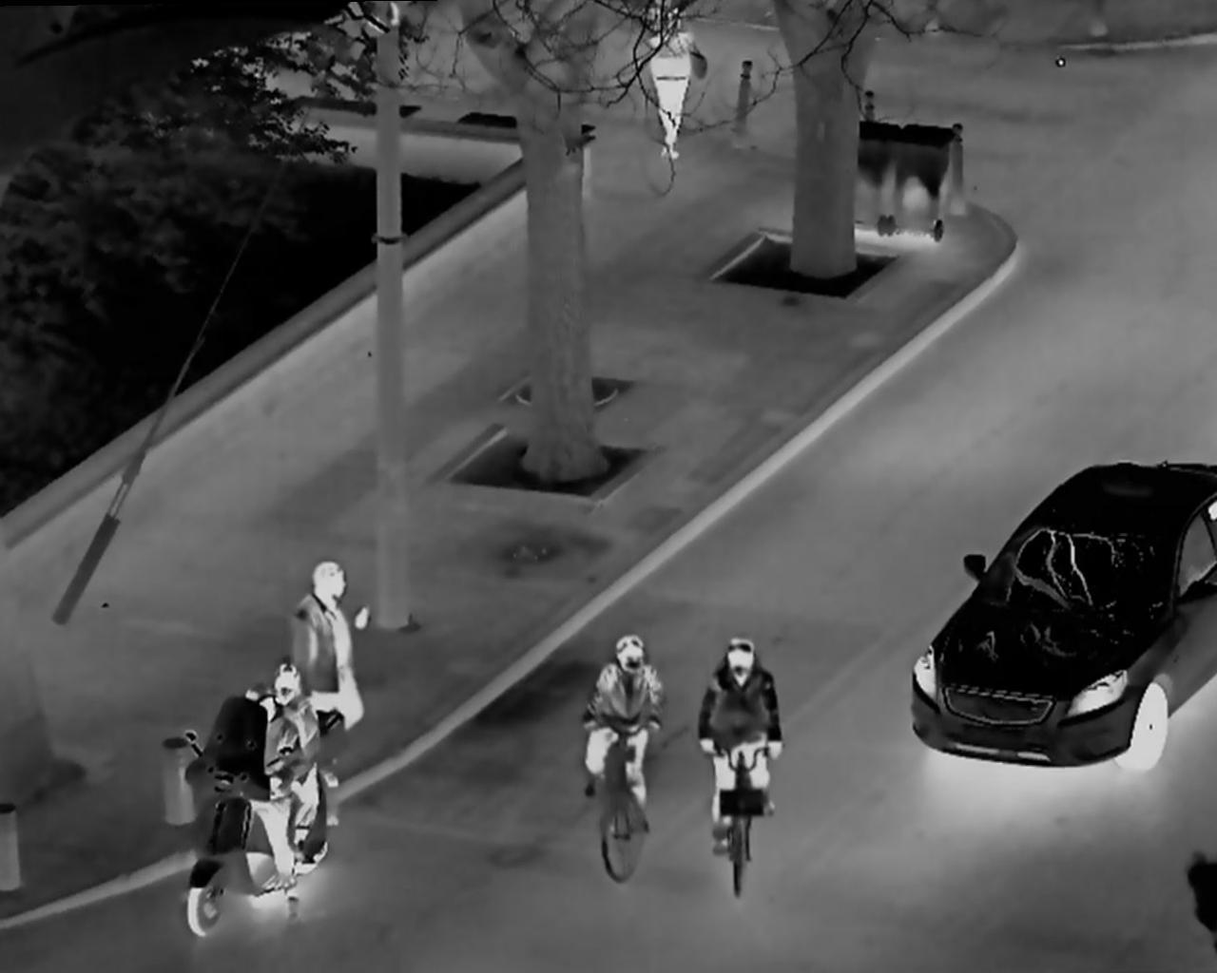person: (573, 622, 674, 897), (694, 616, 789, 870), (277, 549, 373, 757), (231, 685, 297, 930), (259, 659, 326, 875), (641, 9, 702, 179)
